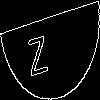Z: (25, 25, 49, 77)
